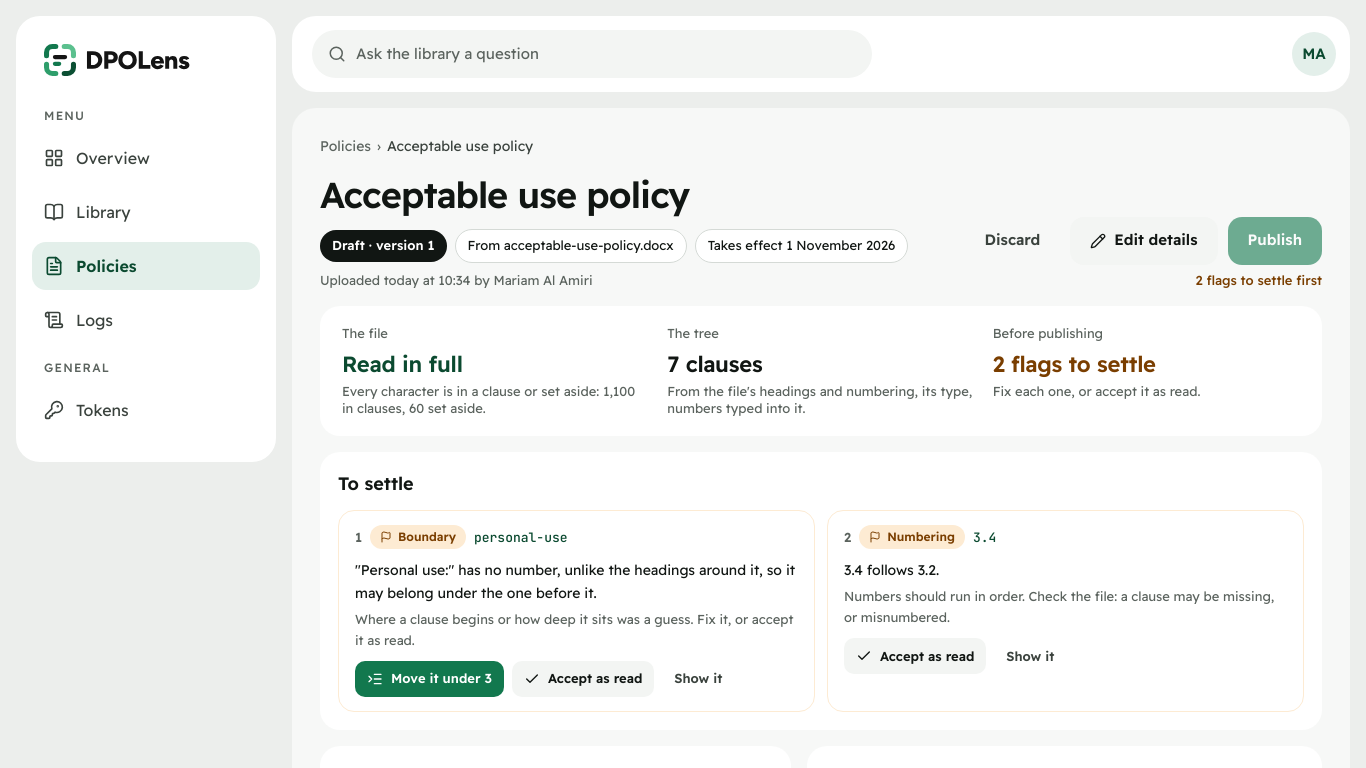
Test: a draft under review › accepts a flag against the revision it read
Check: the text "2 flags to settle first" is shown, box [1196,270,1322,290]
Click the button "Accept as read" below "3.4 follows 3.2.": {"x": 915, "y": 656} [844,638,986,674]
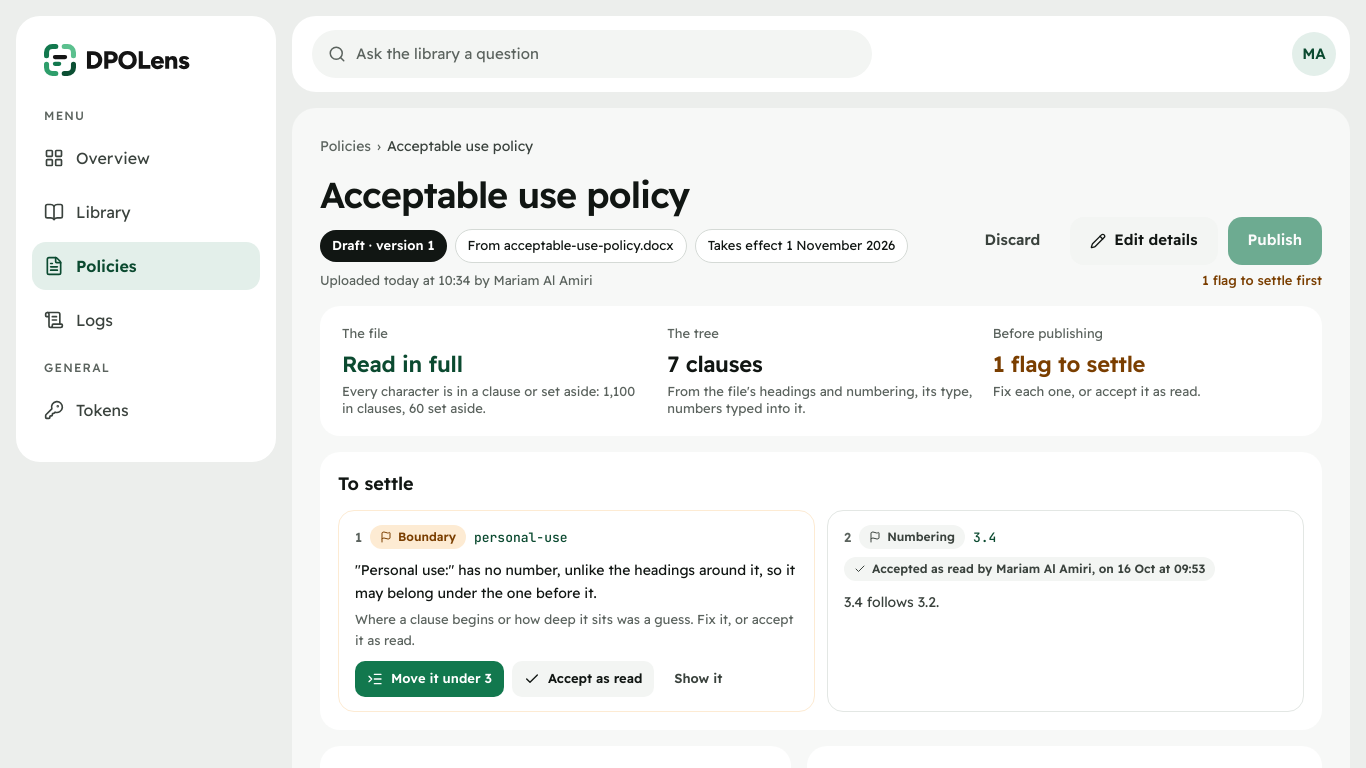
Check: the text "Accepted as read by Mariam Al Amiri, on 16 Oct at 09:53" is shown, box [844,557,1215,581]
Check: the text "1 flag to settle first" is shown, box [1202,270,1322,290]
